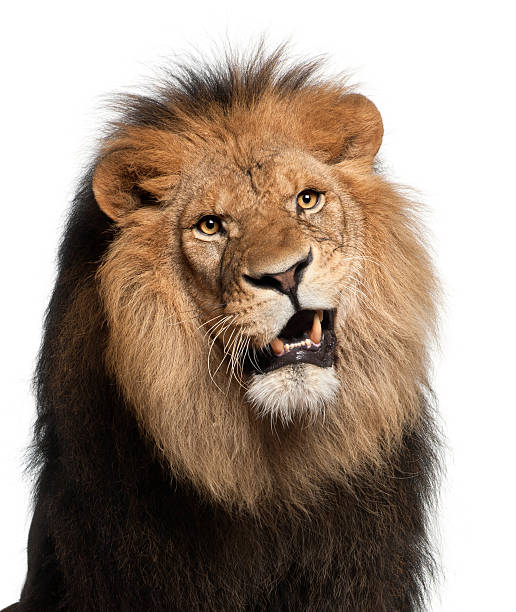lion: (42, 26, 491, 567)
